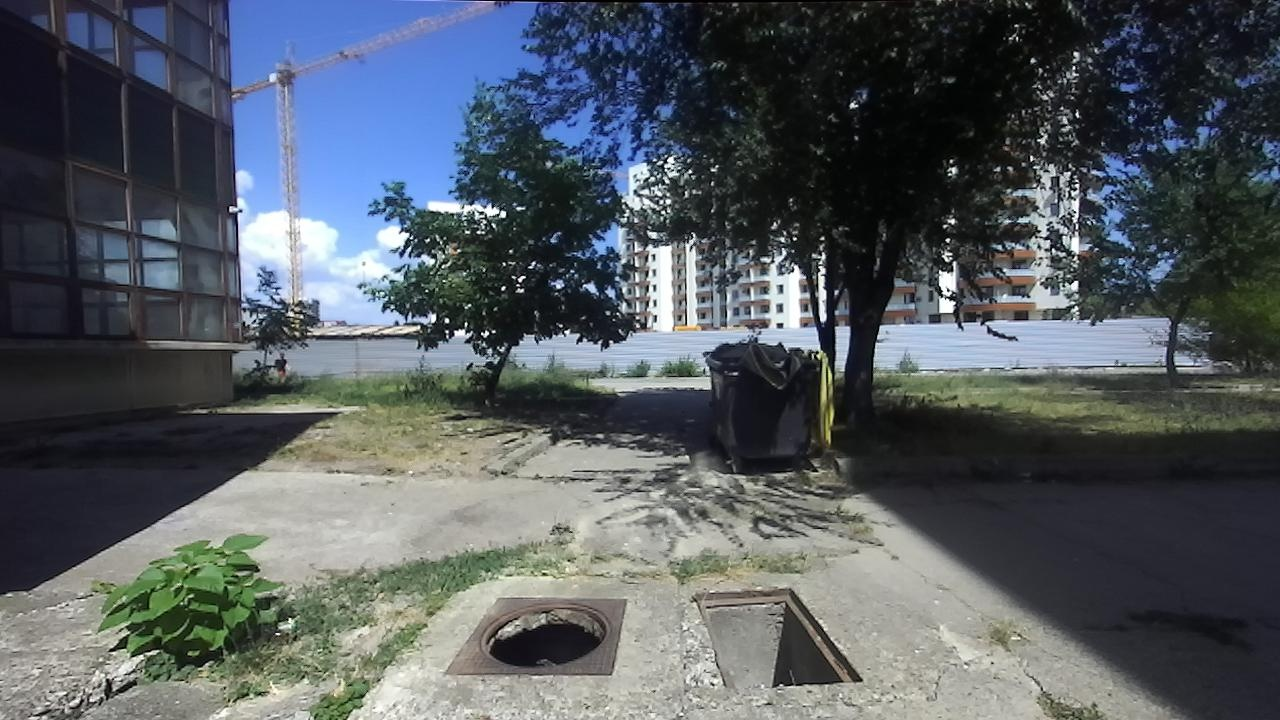drain: (690, 585, 867, 689), (478, 601, 611, 675)
